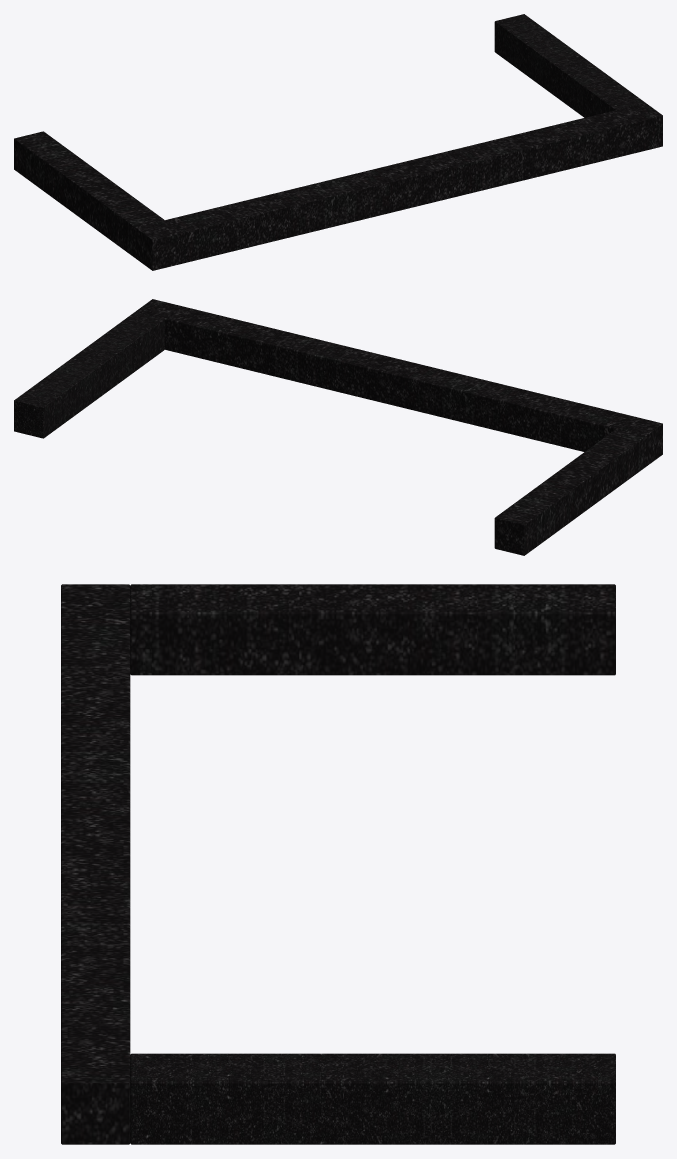
The model's file is Frame 170 x  70 x 10.gltf.
The picture shows the model from 3 angles, top to bottom: view 1: azimuth 30°, elevation 25°; view 2: azimuth 150°, elevation 25°; view 3: azimuth 270°, elevation 25°; orthographic projection. The views are drawn at different scales.
Visible parts, largest first — view 1: Cube.053; view 2: Cube.053; view 3: Cube.053.
Boxes of the visible parts, box(x1,y1,x2,y2) form: Cube.053: box(14, 14, 662, 270); Cube.053: box(14, 299, 662, 555); Cube.053: box(61, 584, 615, 1144).
Bounding box in the file's own units: 1.7 × 0.1 × 0.8.
1 material, 1 textured.
